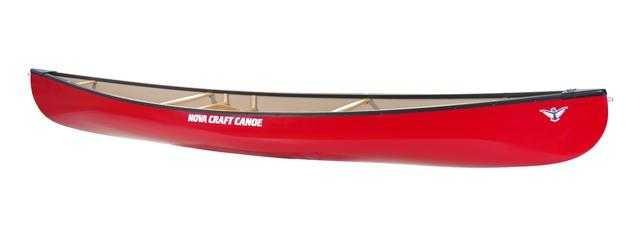kayak: (29, 68, 601, 170)
